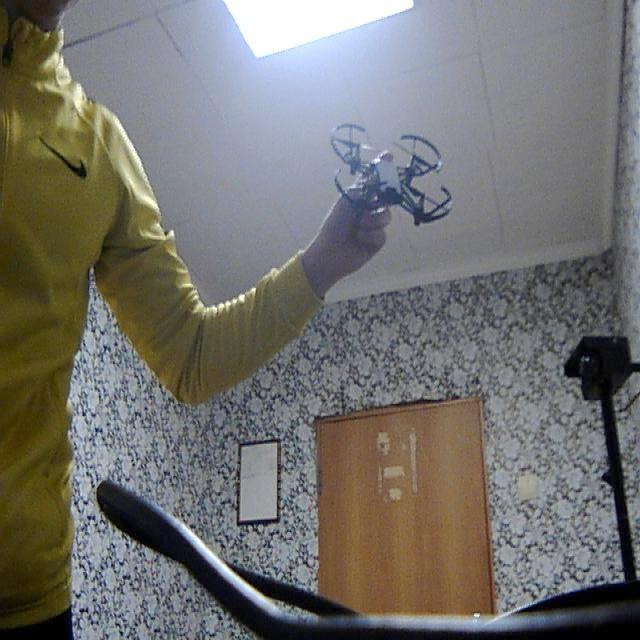drone: (316, 104, 456, 232)
